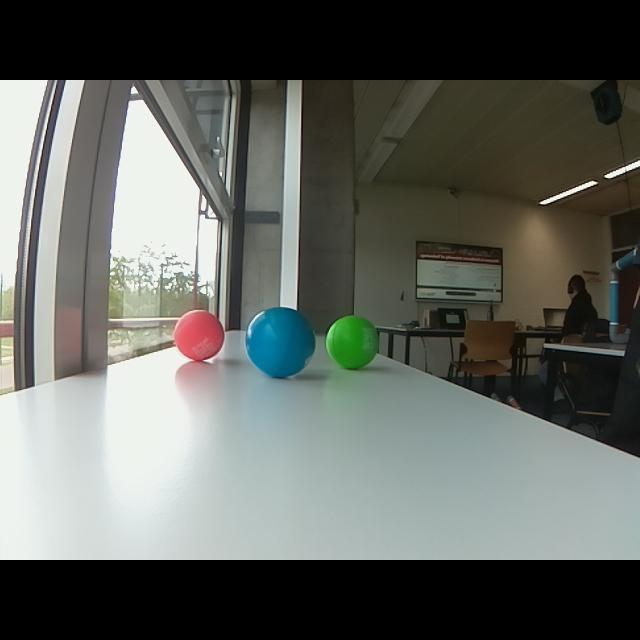ball: (245, 304, 319, 380), (326, 313, 381, 371), (172, 309, 226, 366)
